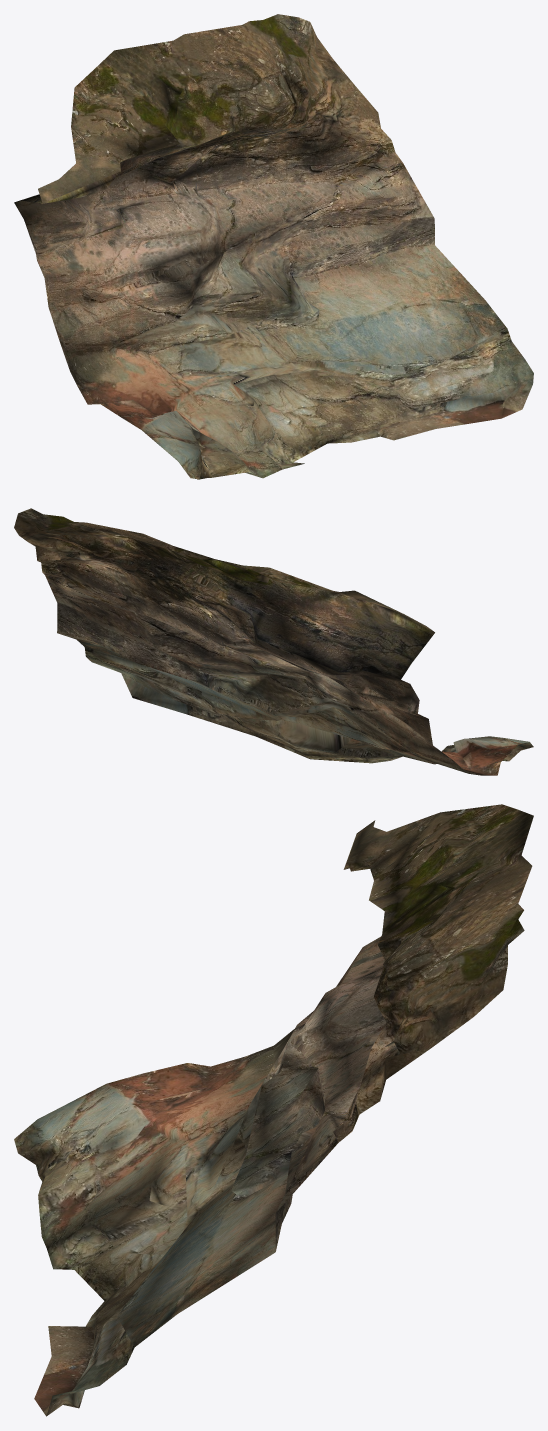
File: rock_face_01-lod2.glb
3 renders of one model, top to bottom at view 1: azimuth 30°, elevation 25°; view 2: azimuth 150°, elevation 25°; view 3: azimuth 270°, elevation 25°, orthographic. The views are drawn at different scales.
Parts seen in each view (by area): view 1: rock_face_01; view 2: rock_face_01; view 3: rock_face_01.
Part boxes in pixels (bbox=[...]): rock_face_01: bbox=[14, 14, 533, 479]; rock_face_01: bbox=[14, 508, 533, 775]; rock_face_01: bbox=[14, 804, 533, 1416].
Bounding box in the file's own units: 4.94 × 3.56 × 3.82.
Materials: 1 (1 with a texture image).
